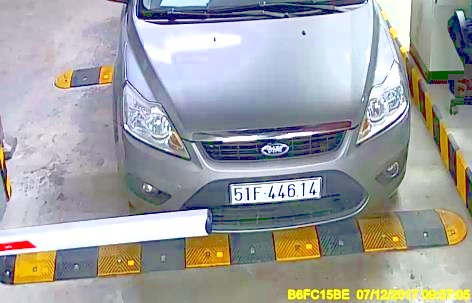plate: (225, 176, 324, 206)
